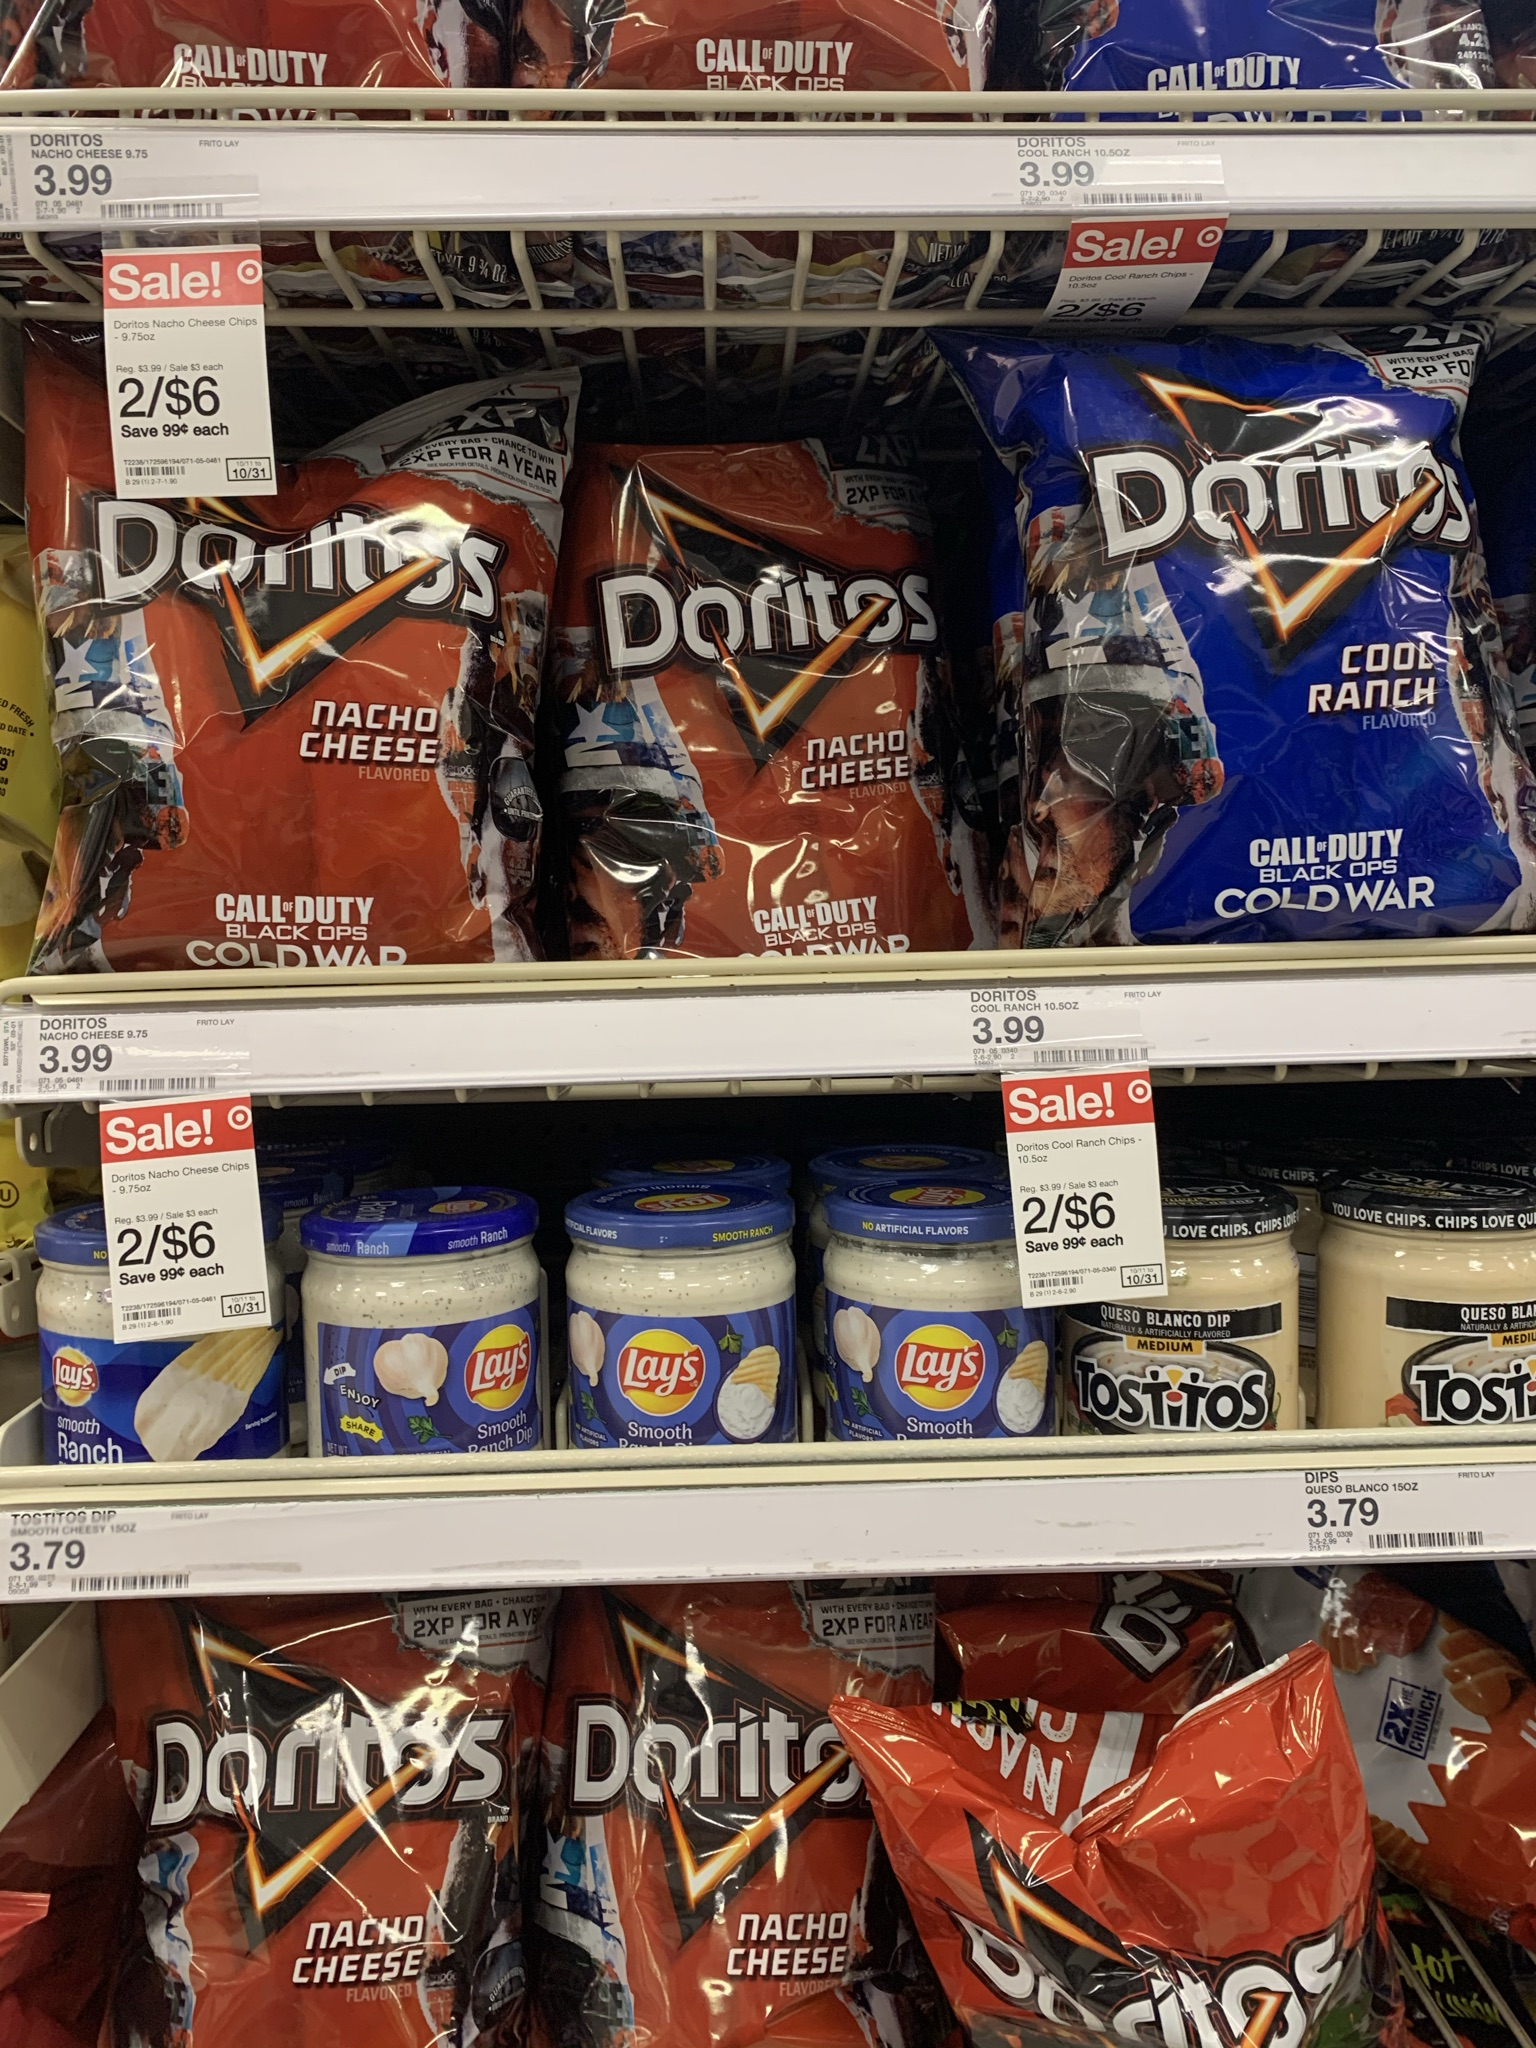Chips: (973, 326, 1533, 934), (26, 347, 537, 963), (563, 390, 958, 956), (105, 1613, 516, 2048), (573, 1603, 881, 2048)
